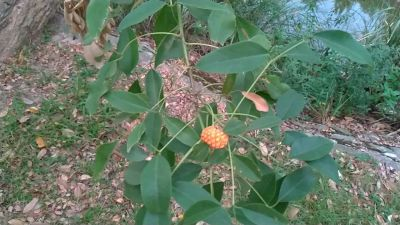eggs: (200, 123, 231, 150)
